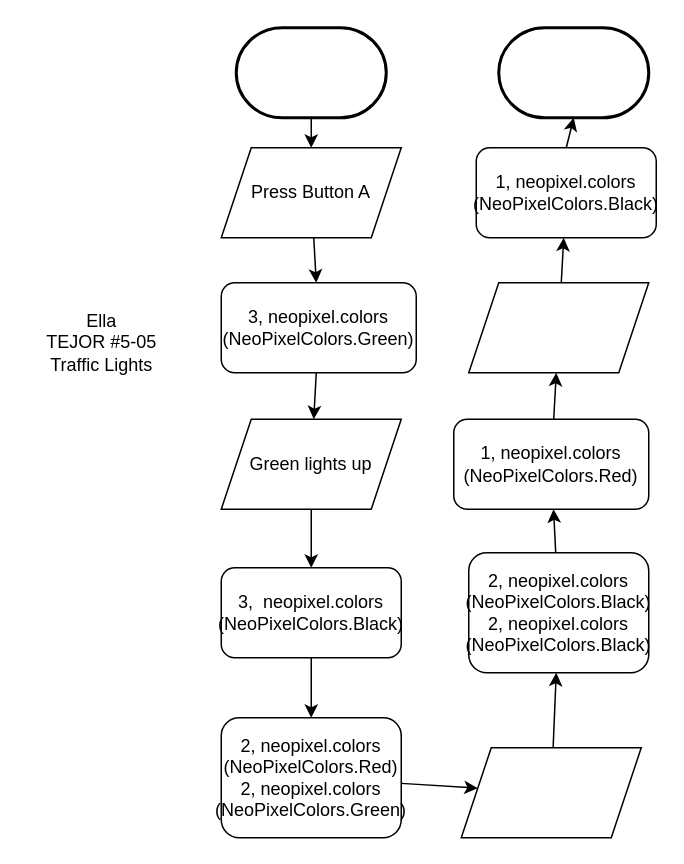
Image size: 684x864. Some labels were removed from this diagram. Here are the shapes that lost their labels. From the top down, the centre of each, then its label:
the point at 310,72: Start
the point at 573,72: Stop
the point at 558,327: Red lights up
the point at 550,792: Yellow lights up
